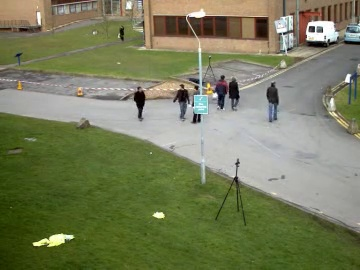person: (174, 82, 191, 120), (129, 85, 145, 120), (130, 85, 146, 120)
